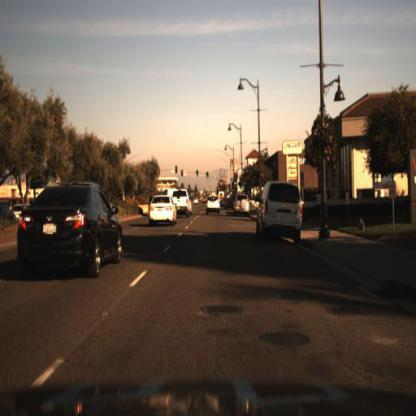car: (18, 184, 127, 280), (257, 179, 303, 239), (150, 195, 179, 226), (232, 189, 250, 217), (173, 190, 191, 217), (234, 193, 252, 215), (207, 195, 221, 218)
